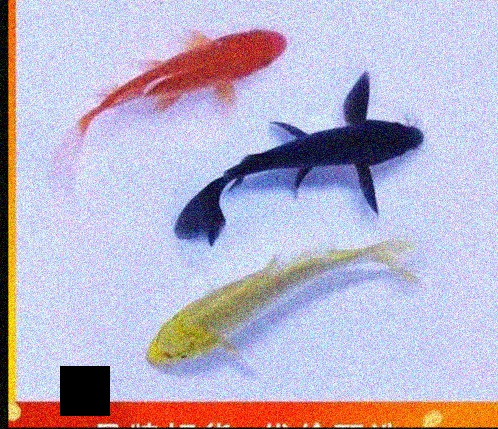fry: (113, 242, 439, 388), (188, 77, 439, 248), (81, 12, 296, 113)
